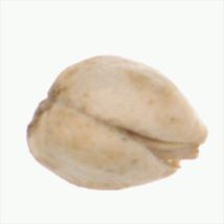L3: (162, 130, 208, 179)
L4: (24, 54, 209, 190)
